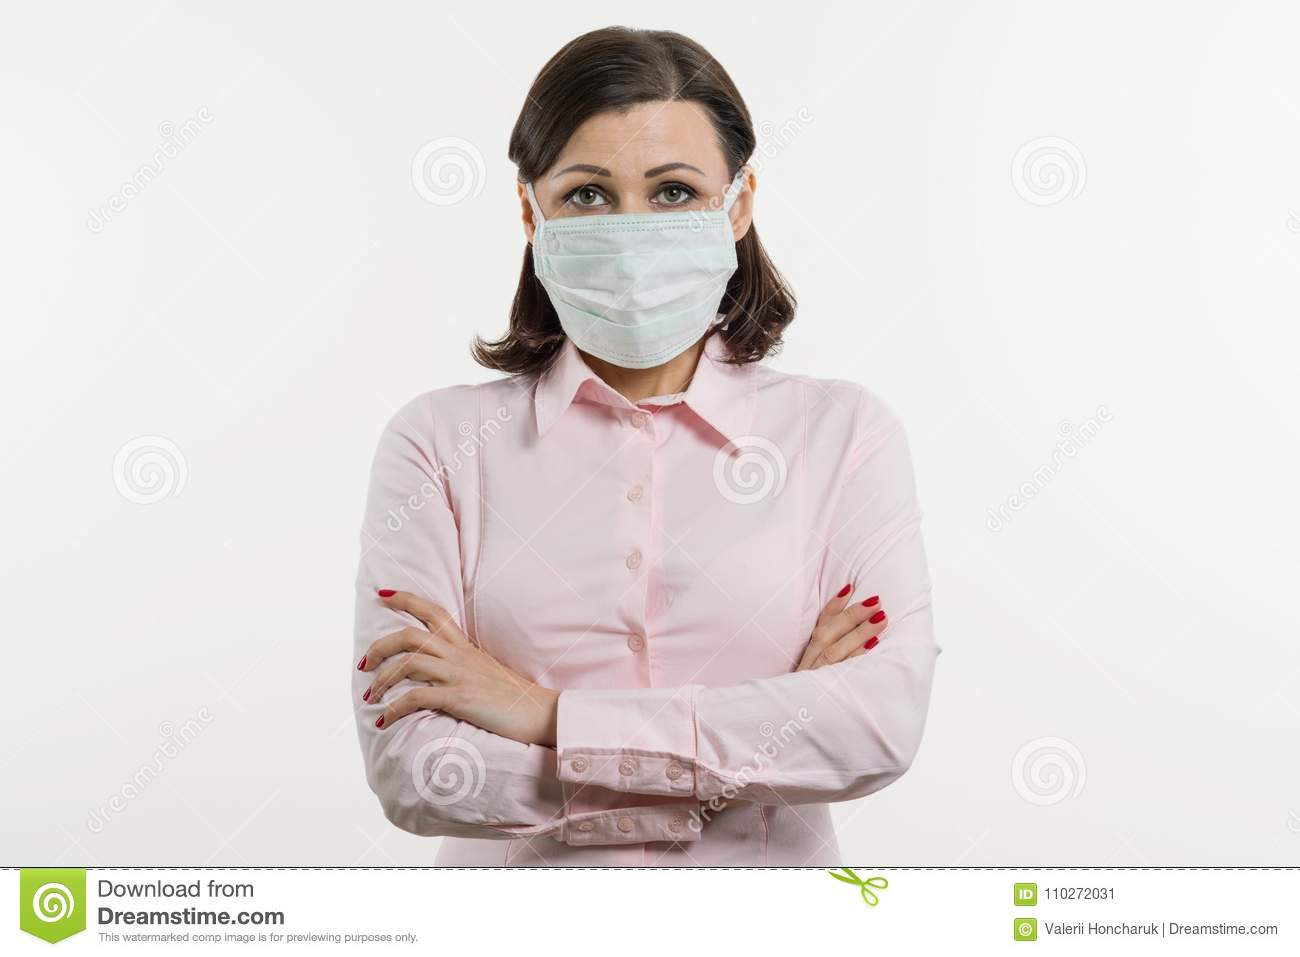mask: (538, 216, 739, 370)
